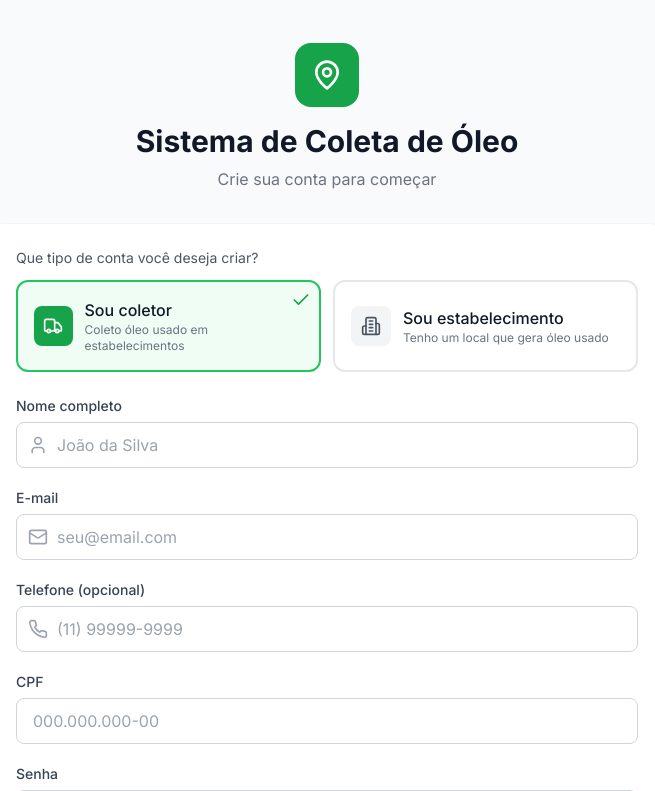
Test: RegisterPage › switches to establishment fields
Step 1. Click the text "Sou estabelecimento" → {"x": 483, "y": 318}, box [403,308,564,328]
(page scrolled)
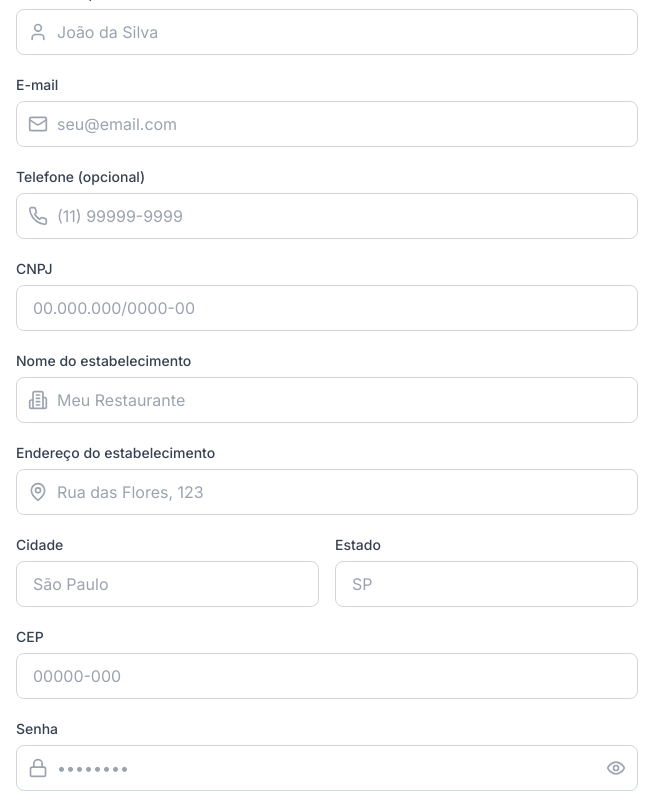
expect the field labelled "CNPJ" is shown: met, box [16,285,638,331]
expect the field labelled "Nome do estabelecimento" is shown: met, box [16,377,638,423]
